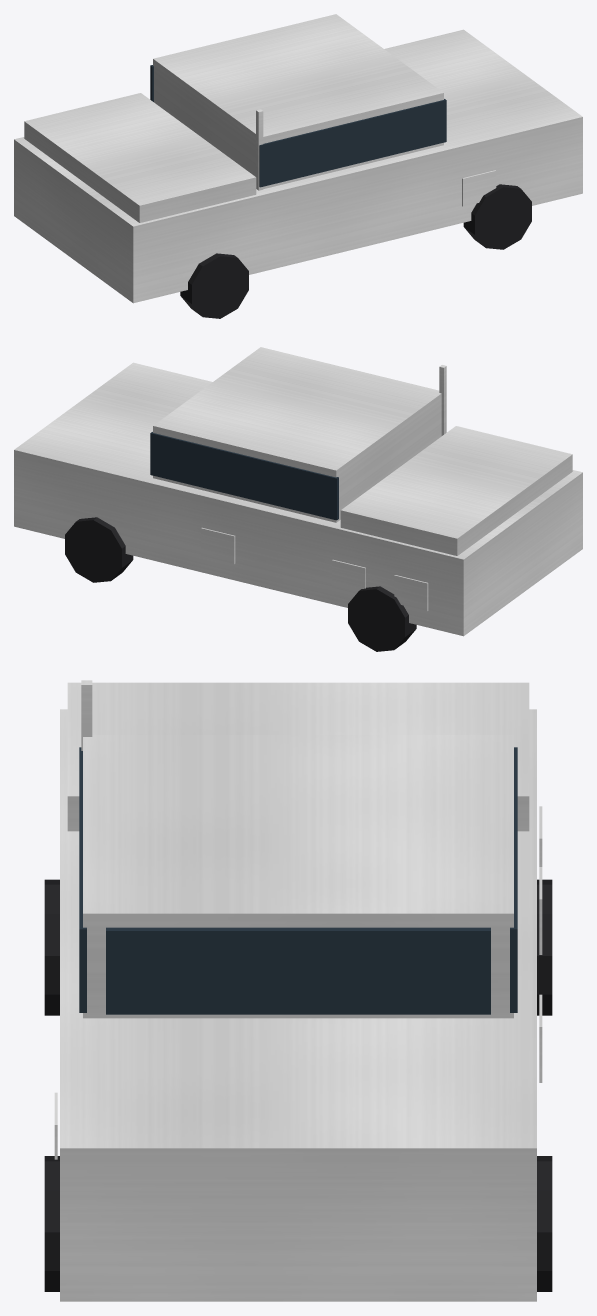
File: wreck_jeep.obj
The picture shows the model from 3 angles, top to bottom: view 1: azimuth 30°, elevation 25°; view 2: azimuth 150°, elevation 25°; view 3: azimuth 270°, elevation 25°; orthographic projection. The views are drawn at different scales.
Parts seen in each view (by area): view 1: wreck_jeep; view 2: wreck_jeep; view 3: wreck_jeep.
Boxes of the visible parts, x1,y1,x2,y2 form: wreck_jeep: (14, 14, 582, 318); wreck_jeep: (14, 347, 582, 651); wreck_jeep: (44, 680, 552, 1301).
Bounding box in the file's own units: 2.7 × 1.08 × 1.32.
